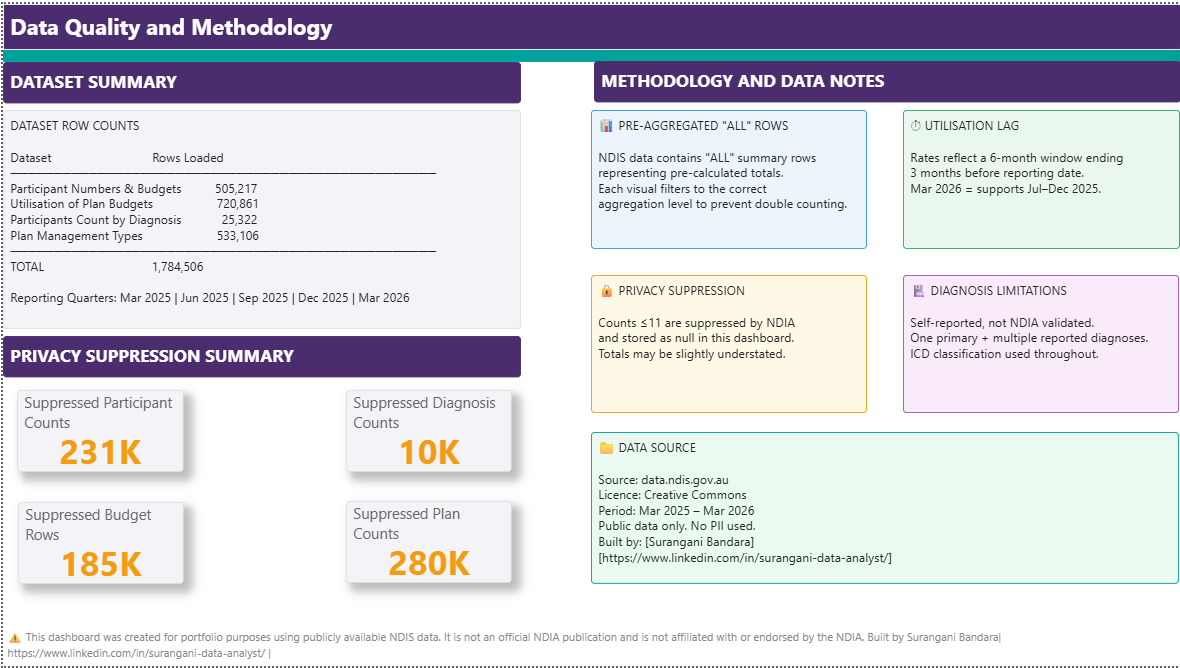

What the dashboard file says about the page in this screenshot:
{"tool":"powerbi","page":{"name":"Data Quality & Methodology","canvas":[1280,720],"ordinal":6},"visuals":[{"type":"textbox","box":[0,0,1280,49.8],"z":0},{"type":"shape","box":[0,49.8,1280,13],"z":1000},{"type":"textbox","box":[0,63,563,45],"z":2000},{"type":"textbox","box":[639.5,114.8,300,150.6],"z":3000},{"type":"textbox","box":[0,360.5,563,45],"z":4000},{"type":"card","title":"Suppressed Participant Counts","fields":{"Values":["Measures (2).Suppressed Participant Rows"]},"box":[15.1,419.1,181,89.4],"z":5000},{"type":"card","title":"Suppressed Budget Rows","fields":{"Values":["Measures (2).Suppressed Budget Rows"]},"box":[16.2,540.9,179.9,89.4],"z":6000},{"type":"card","title":"Suppressed Plan Counts","fields":{"Values":["Measures (2).Suppressed Plan Rows"]},"box":[372.8,540.7,180.2,88.9],"z":7000},{"type":"card","title":"Suppressed Diagnosis Counts","fields":{"Values":["Measures (2).Suppressed Primary Rows"]},"box":[372.8,419.8,180.2,88.9],"z":8000},{"type":"textbox","box":[642.2,62.5,637.8,45],"z":9000},{"type":"textbox","box":[0,114.8,563,238.3],"z":10000},{"type":"textbox","box":[977.8,114.8,301.2,150.6],"z":11000},{"type":"textbox","box":[639.5,277.8,300,150.6],"z":12000},{"type":"textbox","box":[977.8,277.8,300,150.6],"z":13000},{"type":"textbox","box":[639.5,448.1,638.3,165.4],"z":14000},{"type":"textbox","box":[0,674.1,1279,45.7],"z":15000}]}

Visuals, with their boxes in screenshot pixels (x1, y1, x2, y2), scaled from the page's 1280x720 canvas onto the 1180x668 screenshot:
textbox: detection(0, 0, 1179, 46)
shape: detection(0, 46, 1179, 58)
textbox: detection(0, 58, 519, 100)
textbox: detection(590, 107, 866, 246)
textbox: detection(0, 334, 519, 376)
"Suppressed Participant Counts" card: detection(14, 389, 181, 472)
"Suppressed Budget Rows" card: detection(15, 502, 181, 585)
"Suppressed Plan Counts" card: detection(344, 502, 510, 584)
"Suppressed Diagnosis Counts" card: detection(344, 389, 510, 472)
textbox: detection(592, 58, 1179, 100)
textbox: detection(0, 107, 519, 328)
textbox: detection(901, 107, 1179, 246)
textbox: detection(590, 258, 866, 397)
textbox: detection(901, 258, 1178, 397)
textbox: detection(590, 416, 1178, 569)
textbox: detection(0, 625, 1179, 667)
